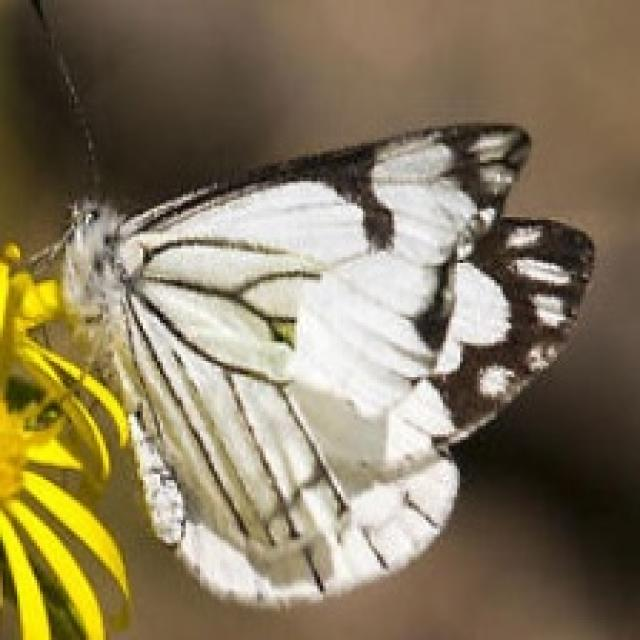butterfly: (11, 0, 594, 611)
